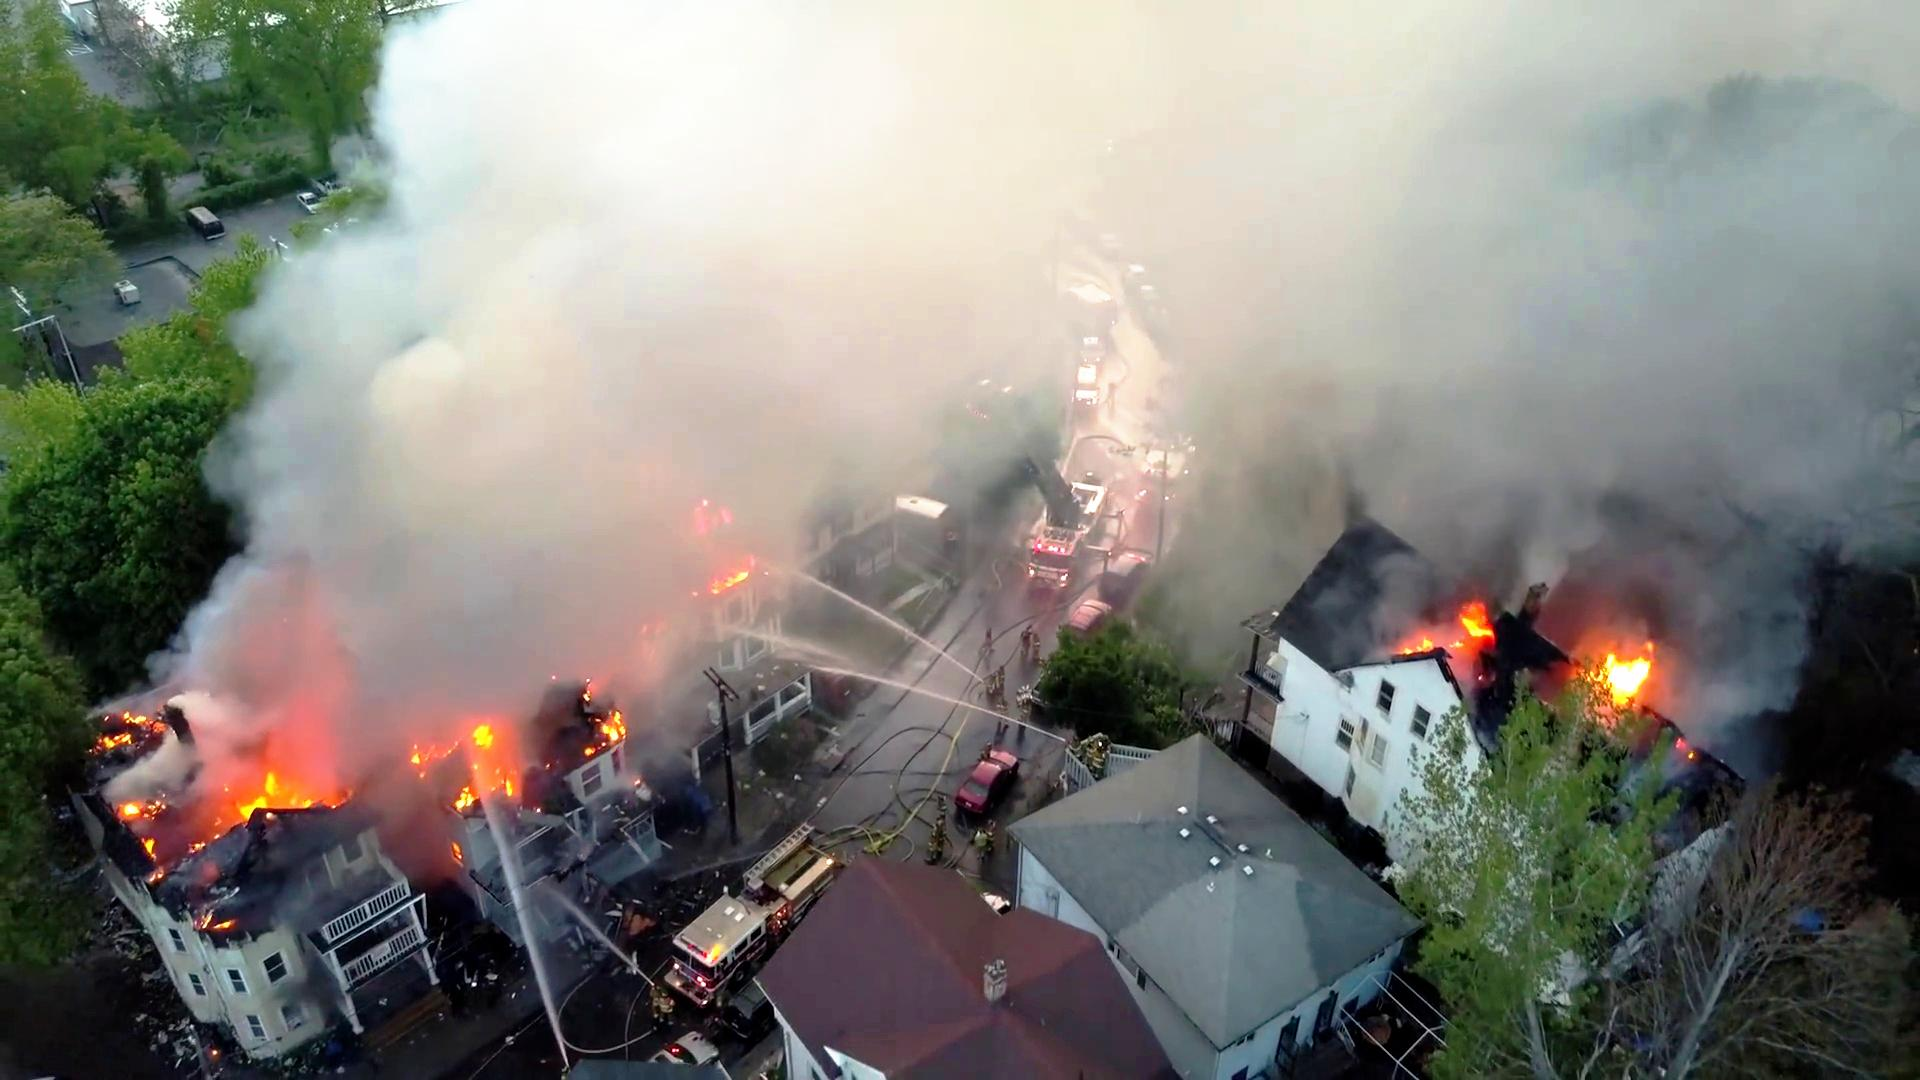fire: (206, 753, 328, 843), (421, 720, 524, 806), (1593, 644, 1647, 727)
smoke: (637, 0, 1685, 426)
